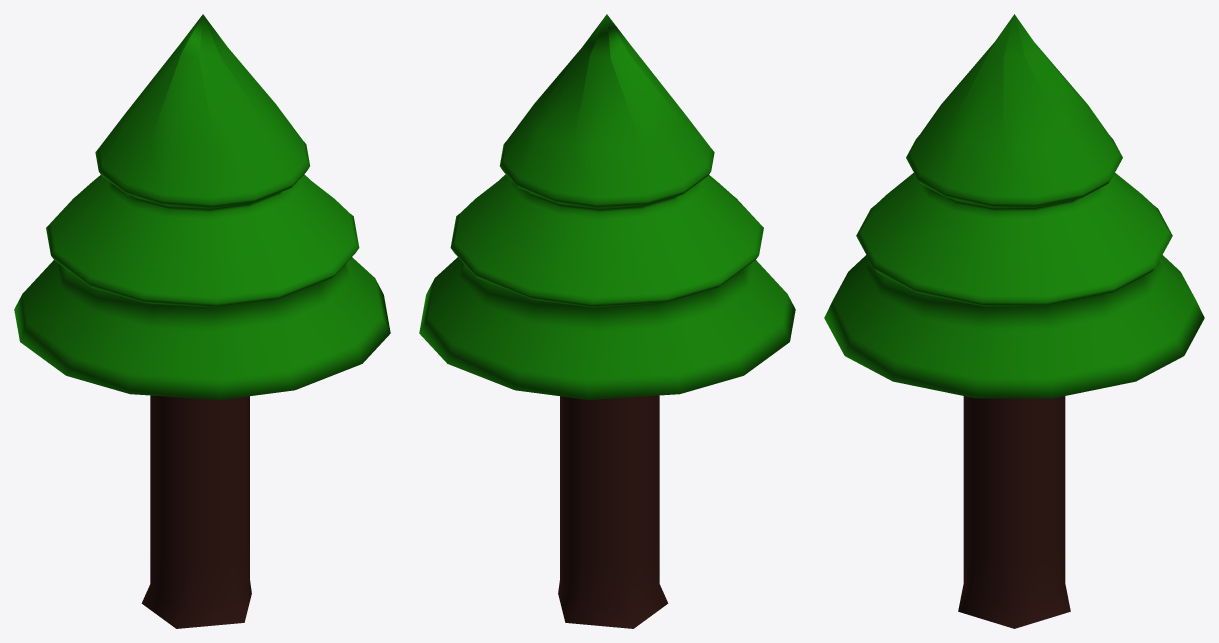
The model's file is ArbreModel.FBX.
3 renders of one model, left to right at view 1: azimuth 30°, elevation 25°; view 2: azimuth 150°, elevation 25°; view 3: azimuth 270°, elevation 25°, orthographic.
Visible parts, largest first — view 1: Cylinder001; view 2: Cylinder001; view 3: Cylinder001.
Part boxes in pixels (bbox=[...]): Cylinder001: bbox=[14, 14, 390, 628]; Cylinder001: bbox=[419, 14, 795, 628]; Cylinder001: bbox=[824, 14, 1204, 628].
Bounding box in the file's own units: 35.41 × 36.32 × 62.25.
